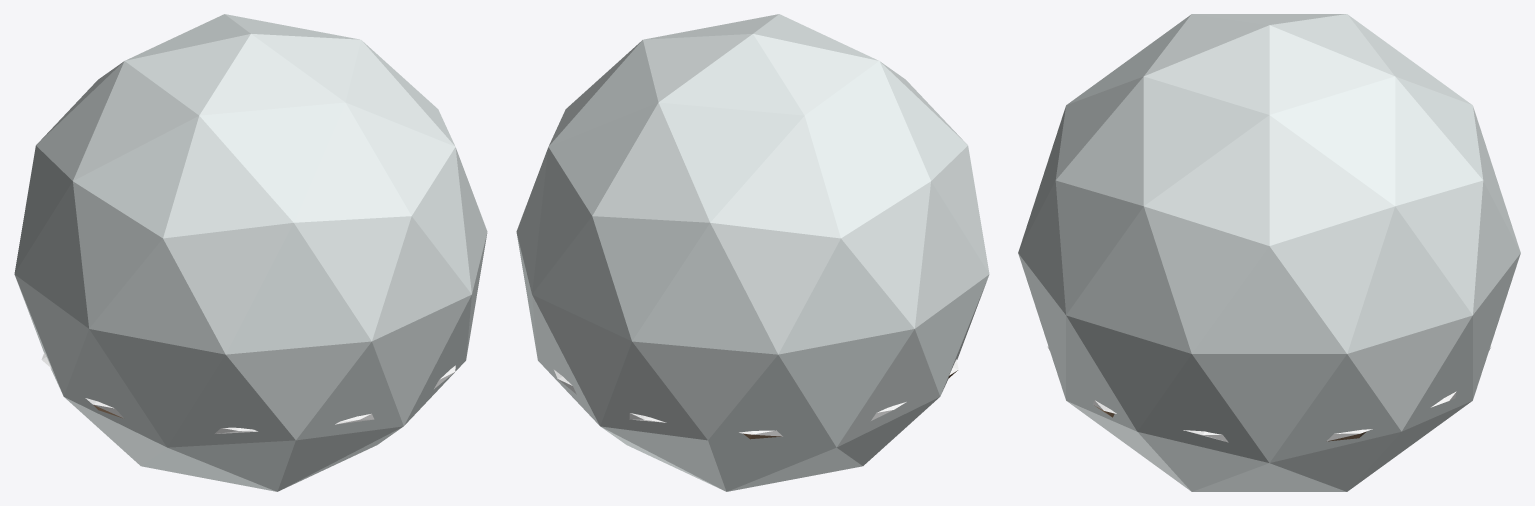
The model's file is christmas_sphere_environment.glb.
3 renders of one model, left to right at view 1: azimuth 30°, elevation 25°; view 2: azimuth 150°, elevation 25°; view 3: azimuth 270°, elevation 25°, orthographic. The views are drawn at different scales.
Visible parts, largest first — view 1: sfera, terreno; view 2: sfera, terreno; view 3: sfera, terreno.
Boxes of the visible parts, <box> form: sfera: <box>14,14,487,491</box>; terreno: <box>41,352,455,433</box>; sfera: <box>516,14,989,491</box>; terreno: <box>554,359,958,439</box>; sfera: <box>1018,14,1520,491</box>; terreno: <box>1047,345,1491,442</box>.
Size of the model in its own units: 1.9 by 2 by 2.
3 materials, 2 textured.
